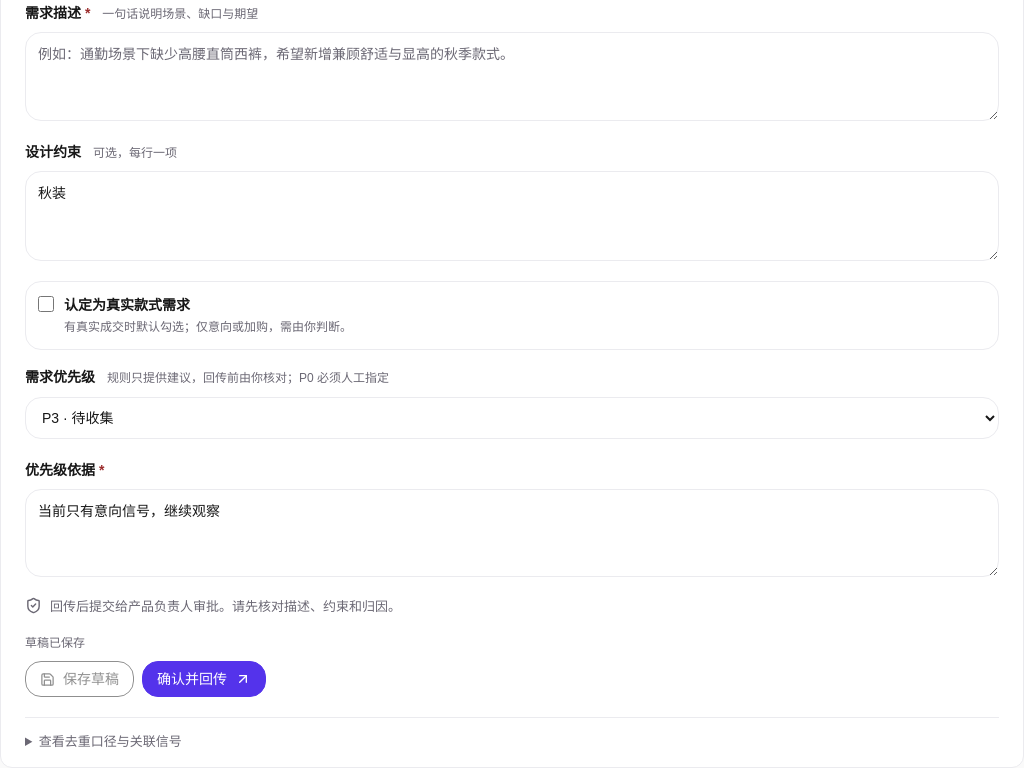
human confirmation › blocks an empty description and focuses the field
(page scrolled)
Click the button "确认并回传" at (204, 679), box top-left (142, 661), bottom-right (266, 697)
(page scrolled)
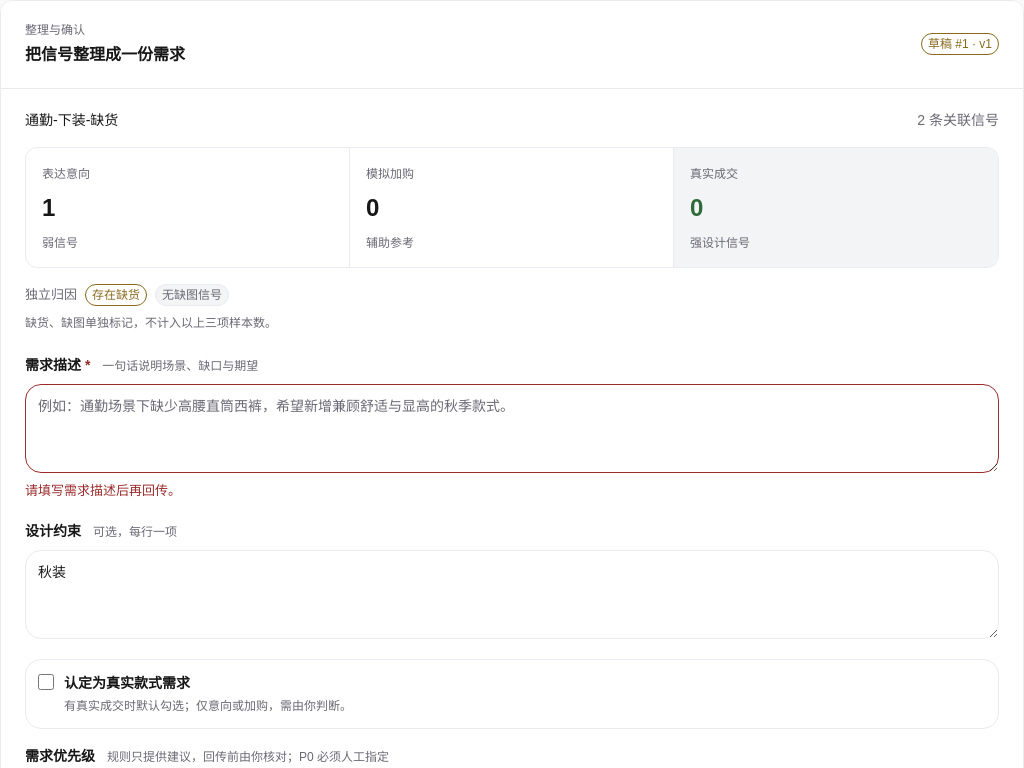
Expected: the message shows "请填写需求描述", top-left (25, 483), bottom-right (181, 498)
